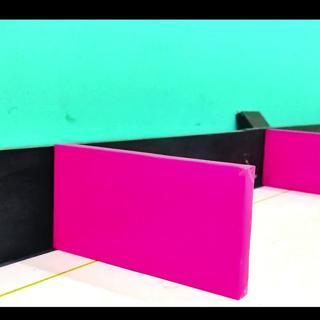xparking: (66, 171, 248, 298), (273, 134, 315, 196)
